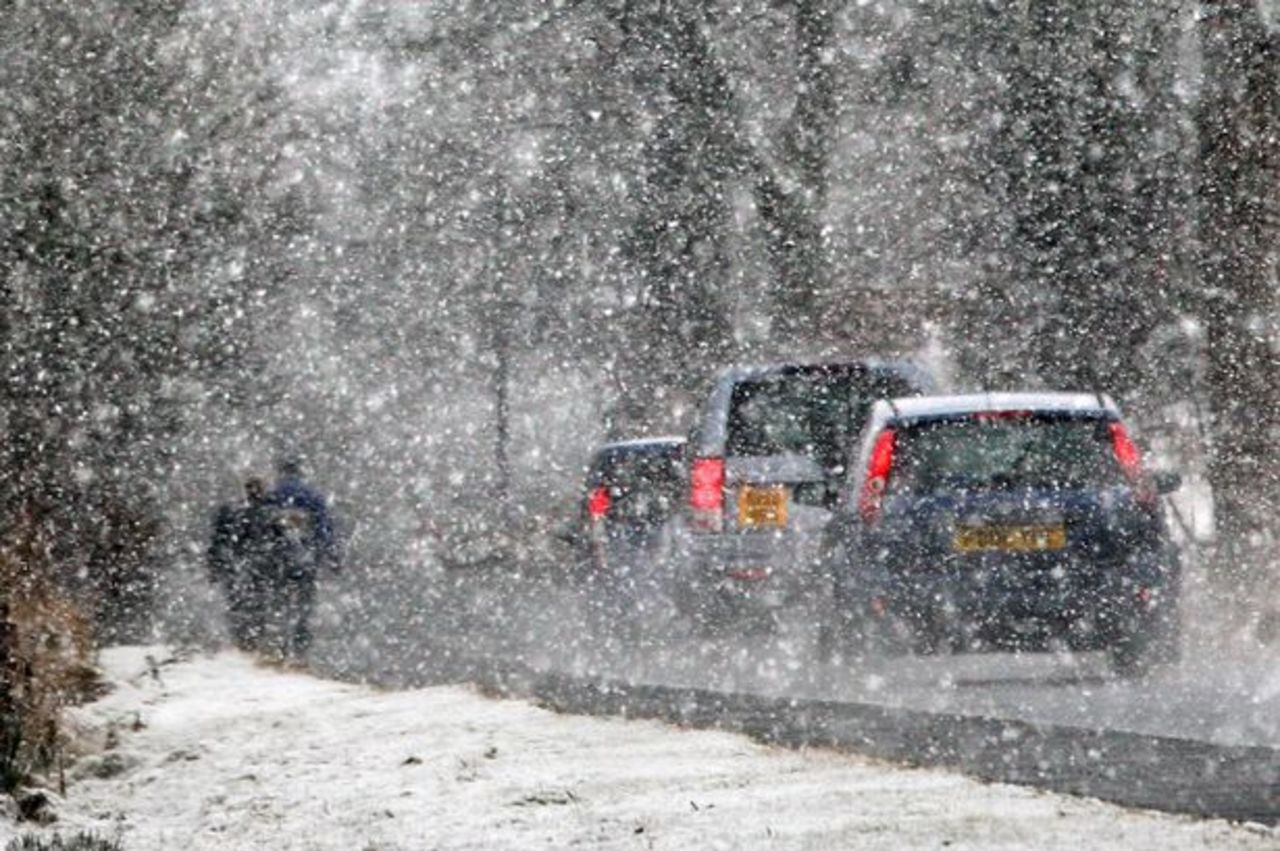car: (827, 391, 1179, 673), (678, 347, 935, 629), (580, 436, 693, 629)
person: (256, 448, 337, 665), (210, 473, 275, 644)
